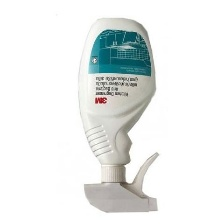cleaning_solution: (74, 13, 163, 217)
